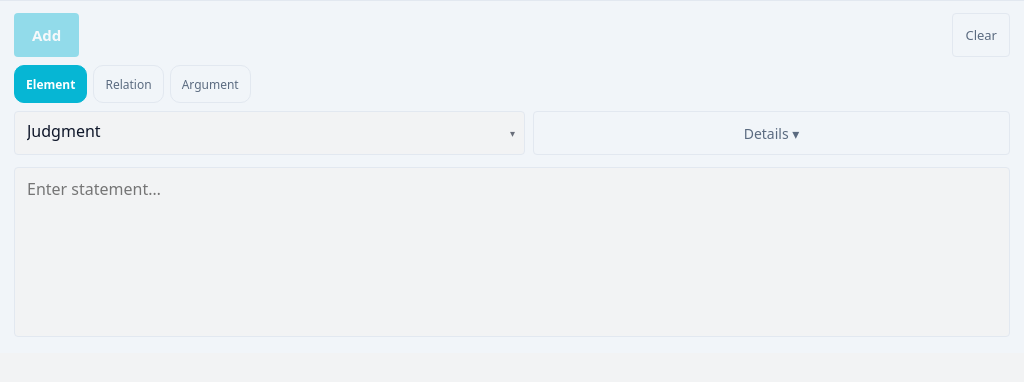
Test: origin and confidence › is folded away on a phone until the toggle is pressed
The width and height of the screenshot is (1024, 382).
Step 1. Click the button "Details ▾" → (772, 133), box left=533, top=111, right=1010, bottom=155
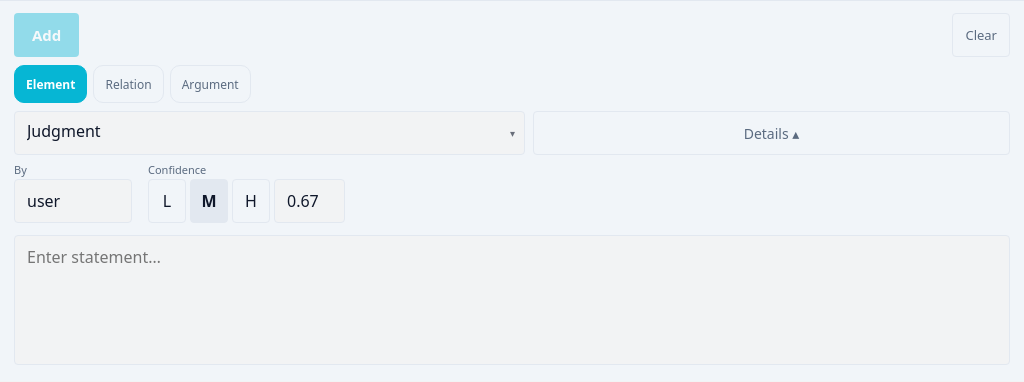
Expected: the field named "Origin" is shown, left=14, top=179, right=132, bottom=223
Expected: the number field named "Confidence, 0 to 1" is shown, left=274, top=179, right=345, bottom=223
Expected: the button "Details ▴" is expanded
Step 2. Click the button "Details ▴" → (772, 133), box left=533, top=111, right=1010, bottom=155
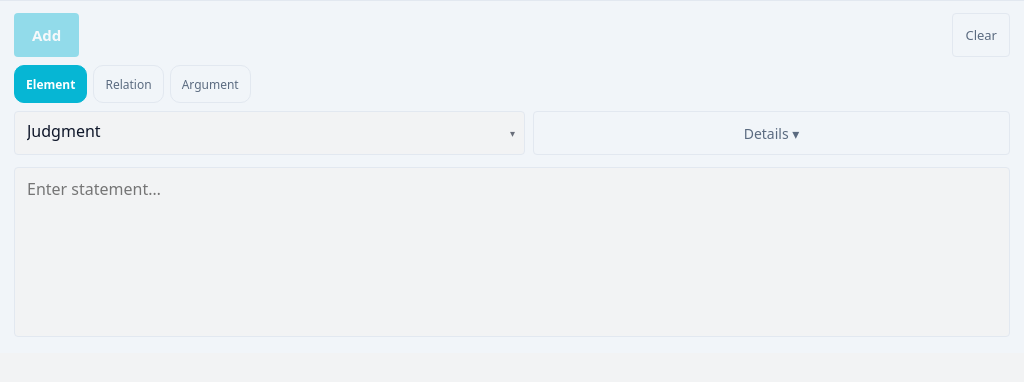
Expected: the field labelled "Origin" is gone
